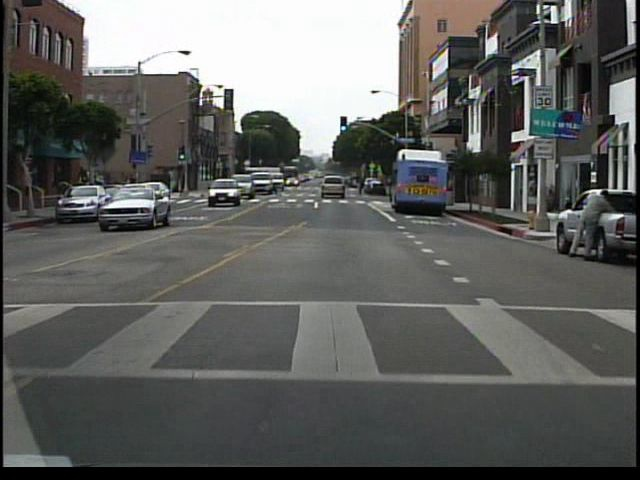person: (565, 184, 618, 263)
